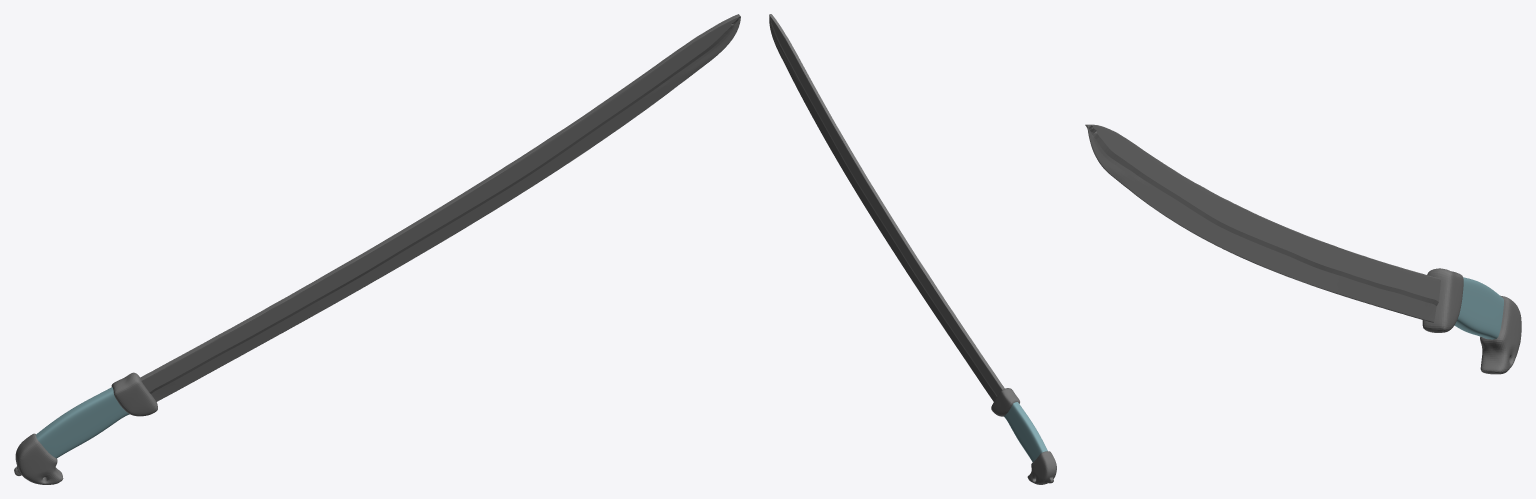
Rendered from COSSACK_WEAPON_1#10.glb.
3 views of the same model, side by side, from view 1: azimuth 30°, elevation 25°; view 2: azimuth 150°, elevation 25°; view 3: azimuth 270°, elevation 25° (orthographic). The views are drawn at different scales.
Visible parts, largest first — view 1: Shaska1; view 2: Shaska1; view 3: Shaska1.
Part boxes in pixels (<box>): Shaska1: <box>14,14,740,484</box>; Shaska1: <box>769,14,1056,484</box>; Shaska1: <box>1085,124,1521,374</box>.
Bounding box in the file's own units: 4.78 × 3.56 × 2.32.
